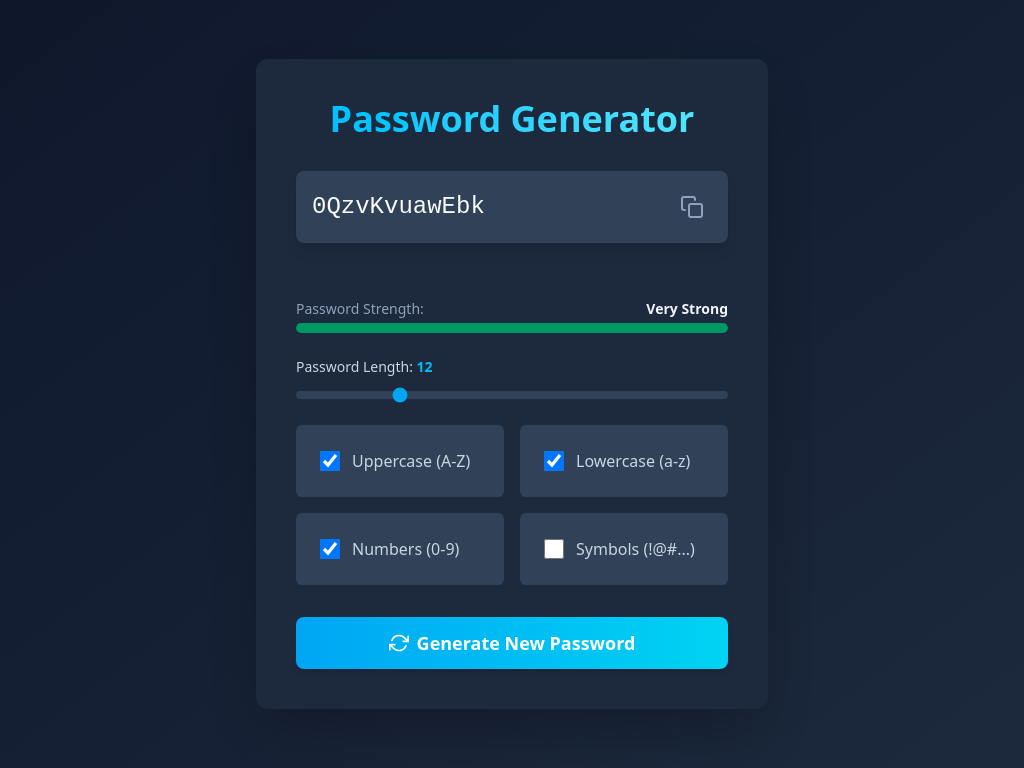
Test case: App Component - Password Generator › should generate a new password when "Generate New Password" button is clicked
Click the button "Generate New Password": (512, 643) x1=296 y1=617 x2=728 y2=669
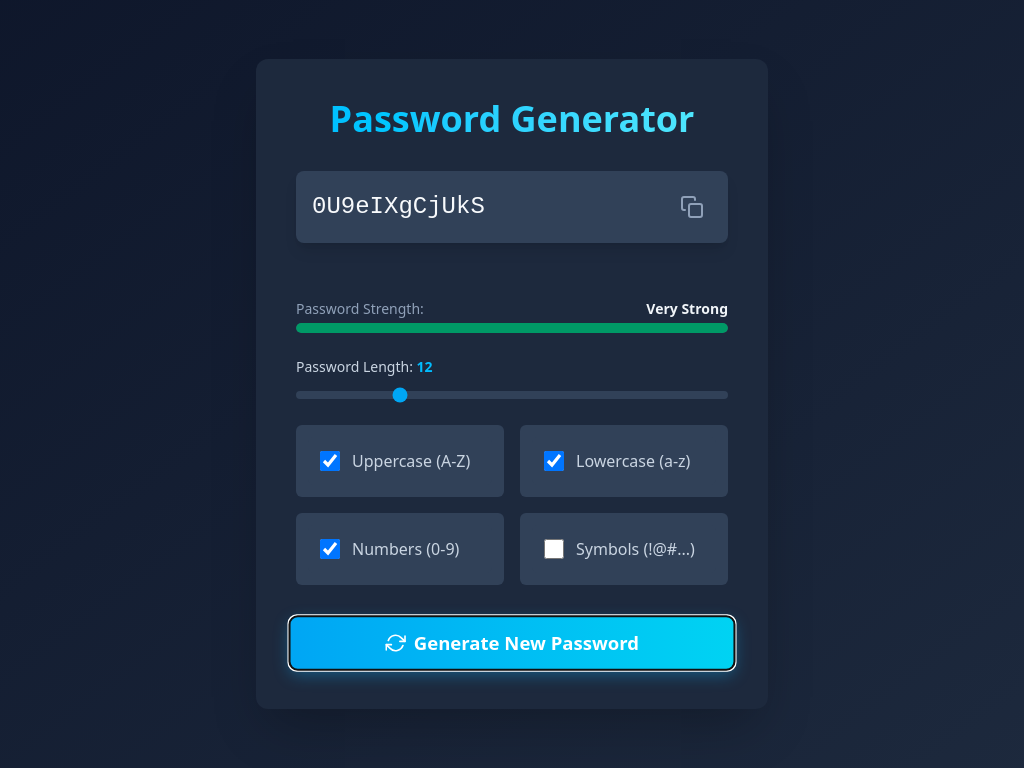
Expected: the field with placeholder "Your Password.." is not empty, x1=312 y1=191 x2=672 y2=223
